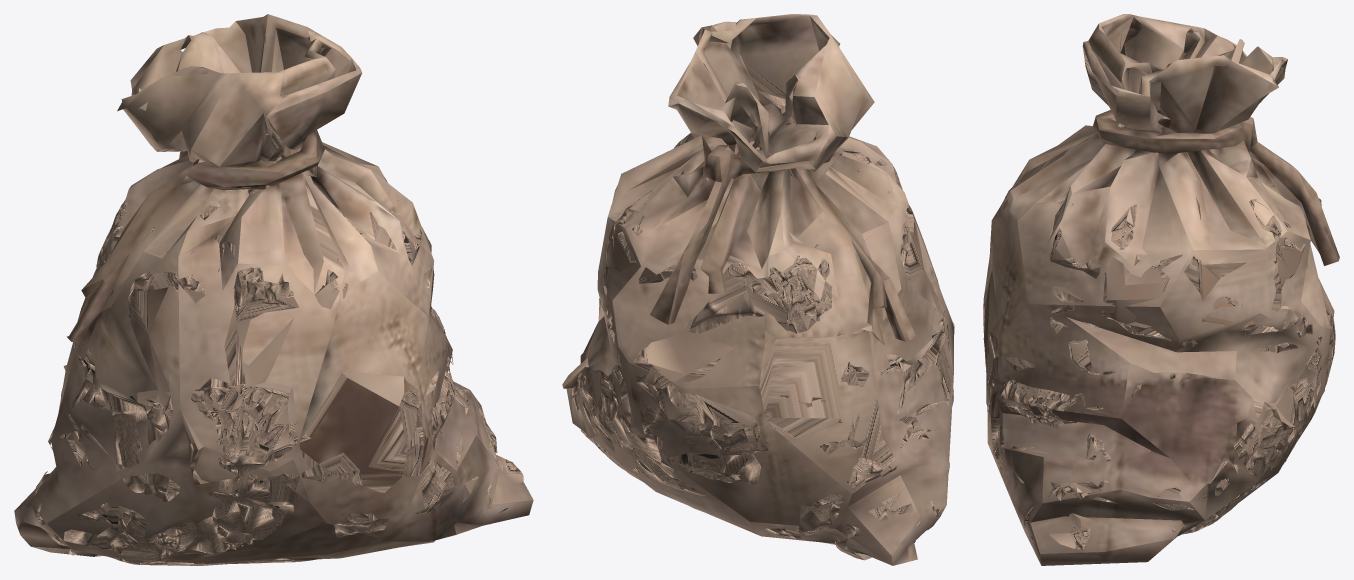
3 renders of one model, left to right at view 1: azimuth 30°, elevation 25°; view 2: azimuth 150°, elevation 25°; view 3: azimuth 270°, elevation 25°, orthographic. The views are drawn at different scales.
Parts seen in each view (by area): view 1: geometry_0; view 2: geometry_0; view 3: geometry_0.
Boxes of the visible parts, x1,y1,x2,y2 form: geometry_0: [14, 14, 533, 565]; geometry_0: [562, 14, 954, 565]; geometry_0: [983, 14, 1339, 565].
Bounding box in the file's own units: 0.5046 × 0.5499 × 0.3946.
Materials: 1 (1 with a texture image).
